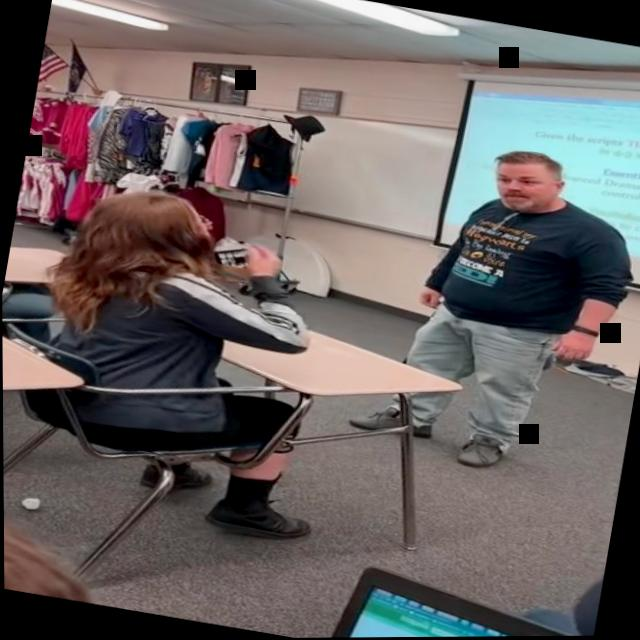NO-Mask: (489, 153, 566, 220)
